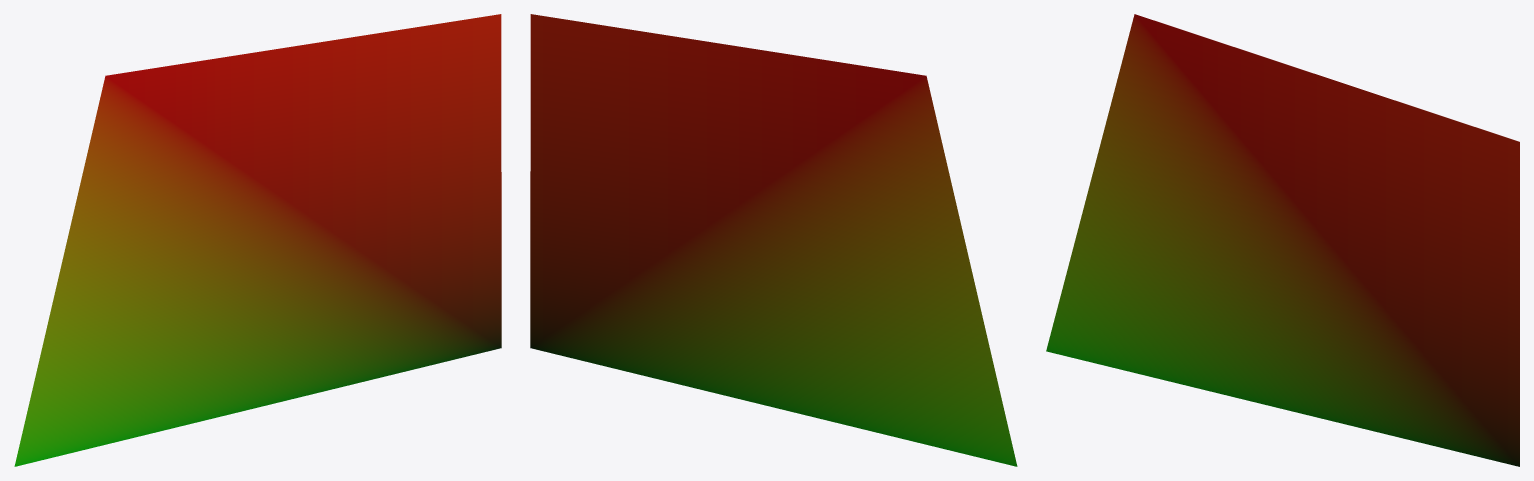
Rendered from Var10_LOD3.fbx.
3 renders of one model, left to right at view 1: azimuth 30°, elevation 25°; view 2: azimuth 150°, elevation 25°; view 3: azimuth 330°, elevation 25°, orthographic. The views are drawn at different scales.
Visible parts, largest first — view 1: _efe2_Var10_LOD3; view 2: _efe2_Var10_LOD3; view 3: _efe2_Var10_LOD3.
Part boxes in pixels (left/top/right/bottom): _efe2_Var10_LOD3: left=14, top=14, right=501, bottom=466; _efe2_Var10_LOD3: left=530, top=14, right=1017, bottom=466; _efe2_Var10_LOD3: left=1046, top=14, right=1519, bottom=466.
Size of the model in its own units: 39.86 by 28.86 by 1.88e-05.
